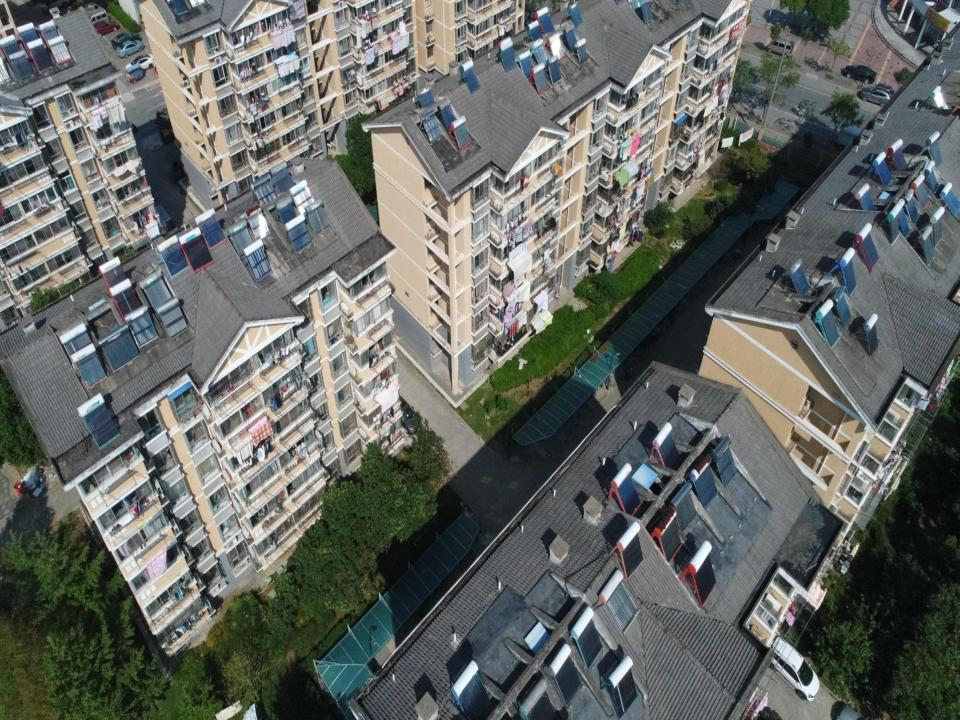car: (386, 392, 420, 436), (860, 85, 897, 107), (843, 64, 877, 84), (126, 53, 154, 73), (111, 32, 142, 50), (116, 40, 144, 58), (91, 20, 119, 38)
van: (769, 636, 820, 700), (767, 37, 794, 58), (84, 8, 110, 27), (80, 2, 103, 21)
